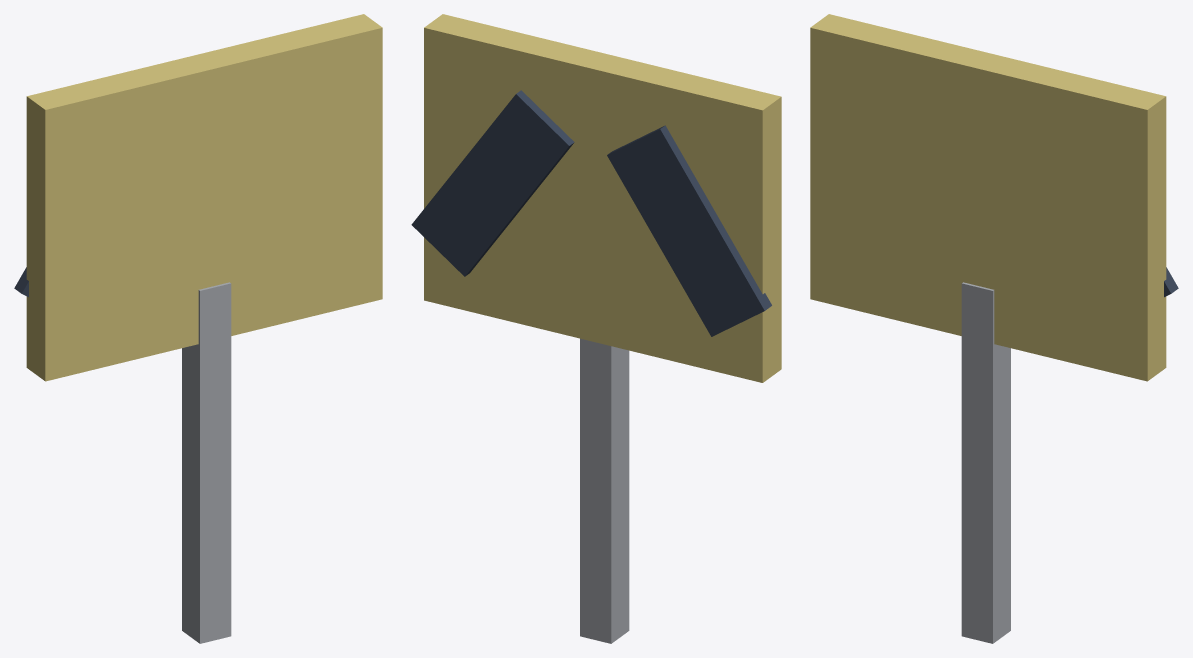
The model's file is sign_chevron.glb.
The picture shows the model from 3 angles, left to right: view 1: azimuth 30°, elevation 25°; view 2: azimuth 150°, elevation 25°; view 3: azimuth 330°, elevation 25°; orthographic projection.
Parts seen in each view (by area): view 1: sign; view 2: sign; view 3: sign.
Boxes of the visible parts, box(x1,y1,x2,y2) form: sign: box(14, 14, 382, 643); sign: box(411, 14, 781, 643); sign: box(810, 14, 1178, 643).
Bounding box in the file's own units: 1.7 × 2.62 × 0.2125.
